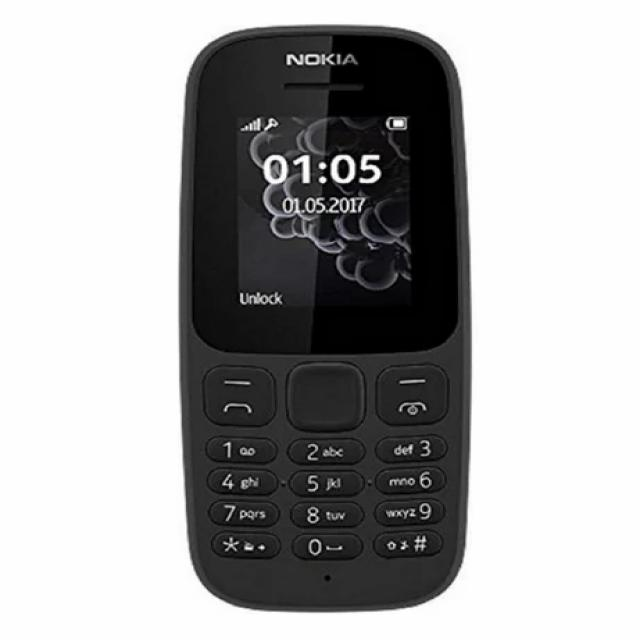mobile_phone: (178, 9, 491, 627)
